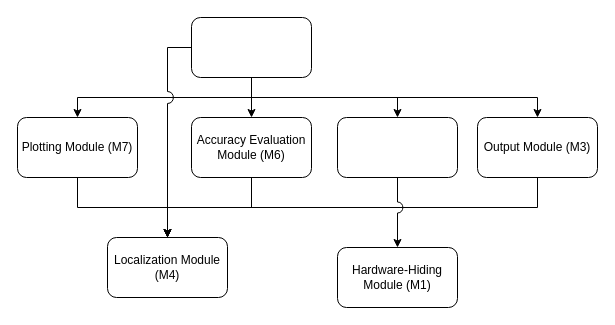
This 615x325 diagram has some shape labels left out. Here are the shapes that lost their labels. From the top down, the centre of each, then its label:
point 251,47: Control Module (M5)
point 397,147: Input Format Module (M2)
